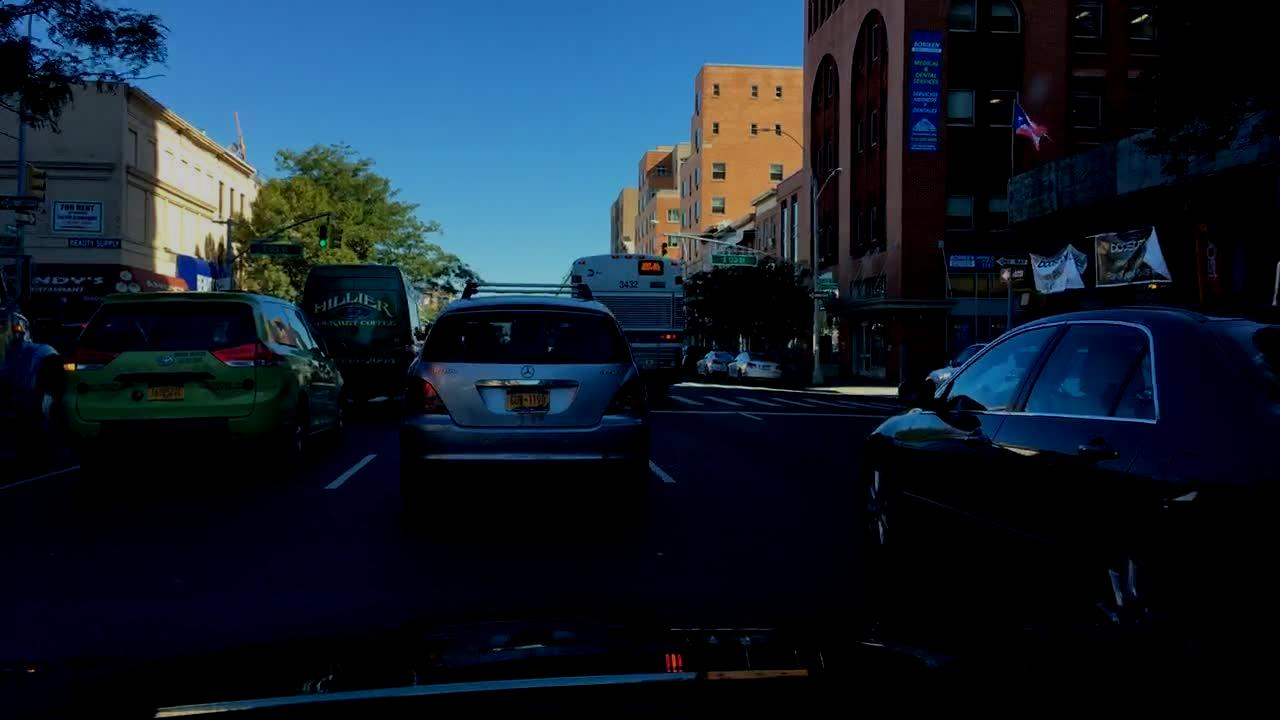Mercedes: (512, 360, 541, 385)
Toyota: (155, 353, 174, 368)
